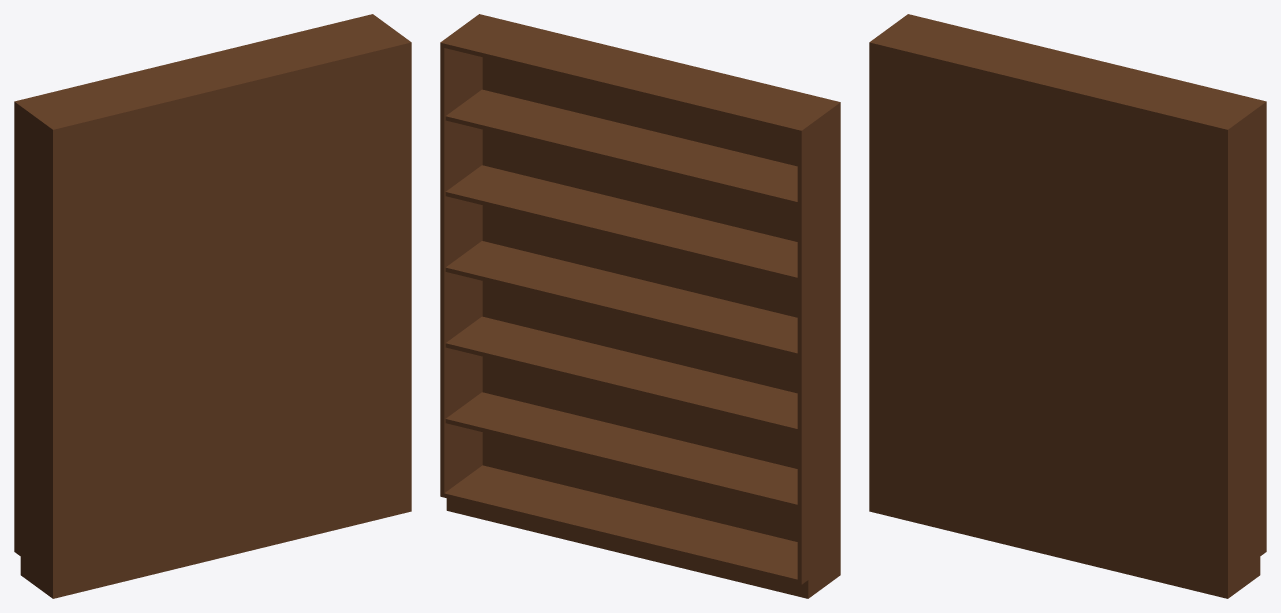
File: furniture.storage.bookcase_wide.glb
3 renders of one model, left to right at view 1: azimuth 30°, elevation 25°; view 2: azimuth 150°, elevation 25°; view 3: azimuth 330°, elevation 25°, orthographic.
Parts seen in each view (by area): view 1: main__hardwood; view 2: main__hardwood; view 3: main__hardwood.
Part boxes in pixels (bbox=[...]): main__hardwood: bbox=[14, 14, 411, 598]; main__hardwood: bbox=[440, 14, 840, 598]; main__hardwood: bbox=[869, 14, 1266, 598].
Bounding box in the file's own units: 1.6 × 2 × 0.3.
